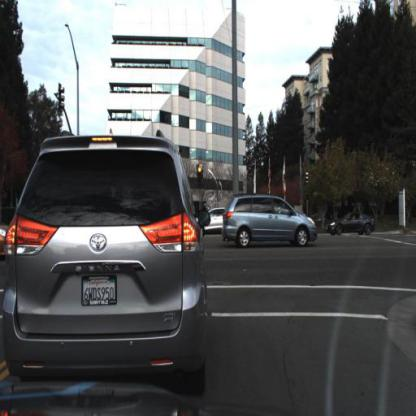car: (2, 126, 217, 396), (223, 191, 322, 260), (327, 208, 378, 240), (327, 213, 377, 240), (200, 205, 230, 239), (200, 199, 219, 213)
trafficLight-Red: (197, 161, 206, 190), (198, 165, 205, 182)
